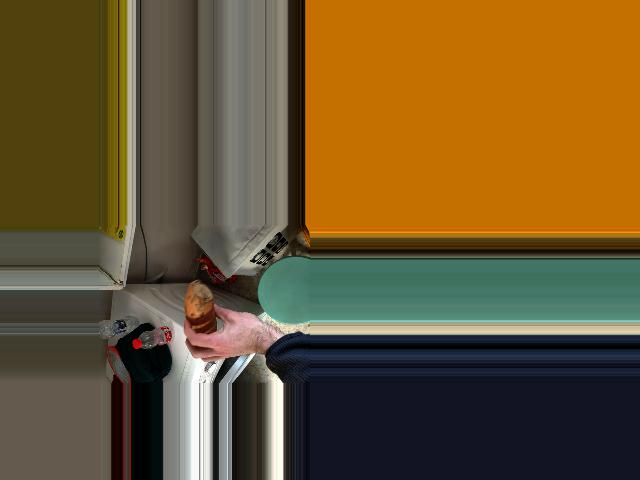sweet_potato: (190, 296, 232, 347)
